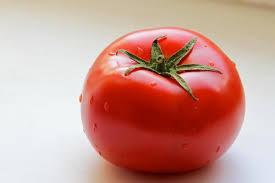tomato: (78, 27, 245, 173)
